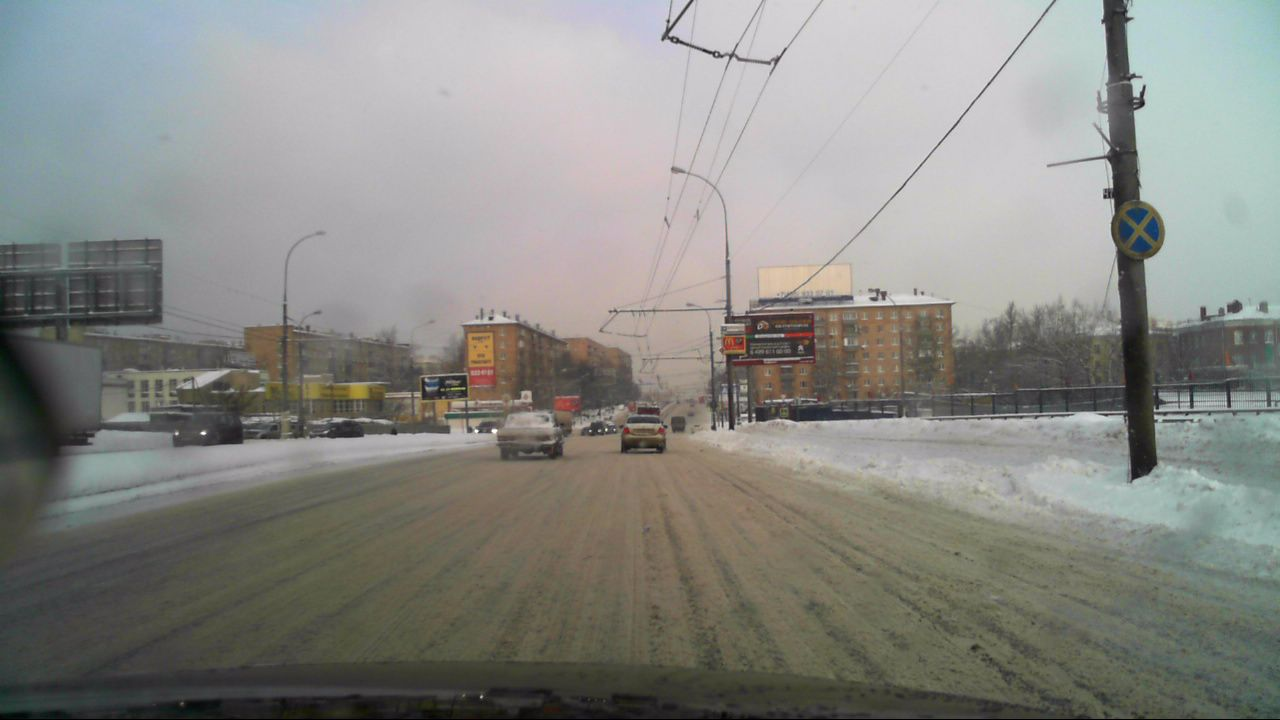No Parking: (1108, 196, 1168, 263)
